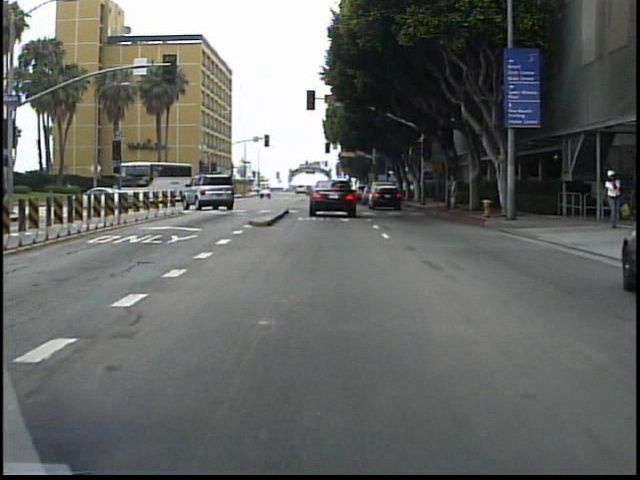person: (445, 168, 462, 212)
